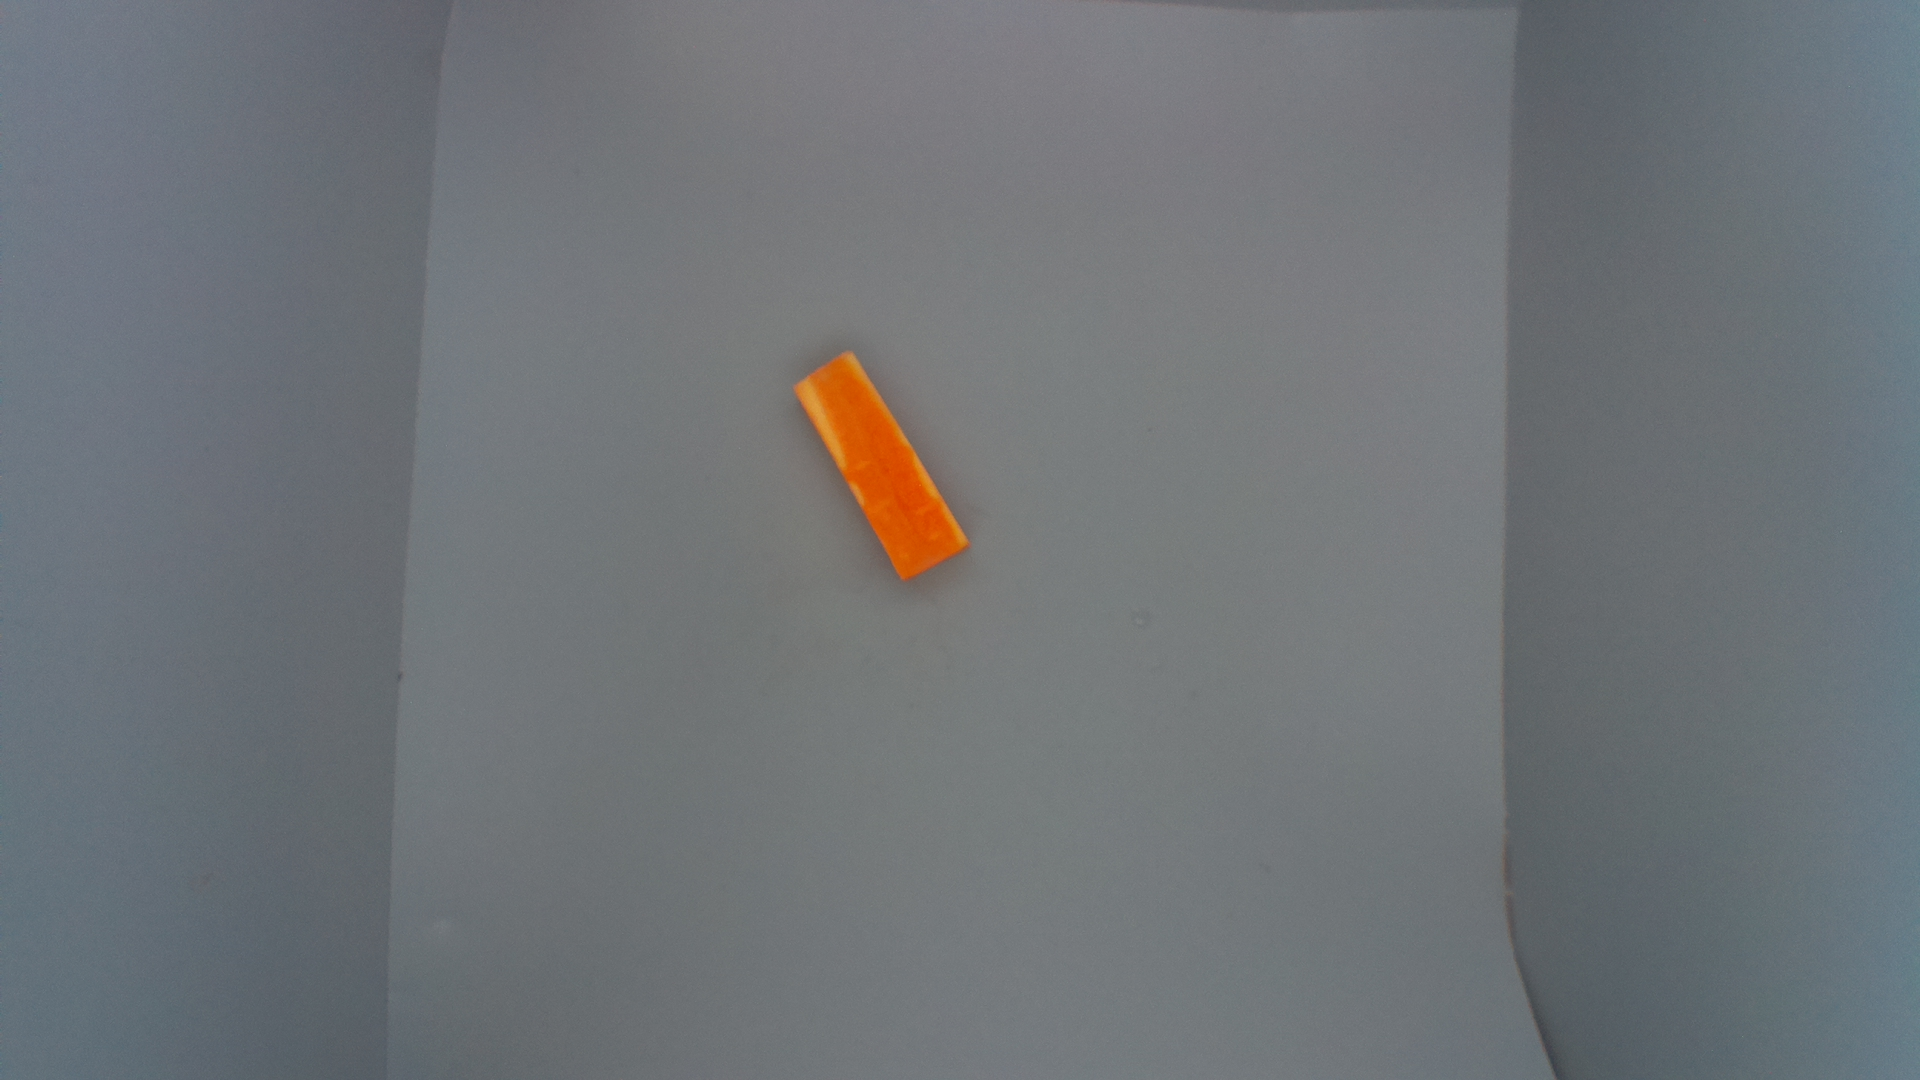carrot: (793, 345, 975, 593)
